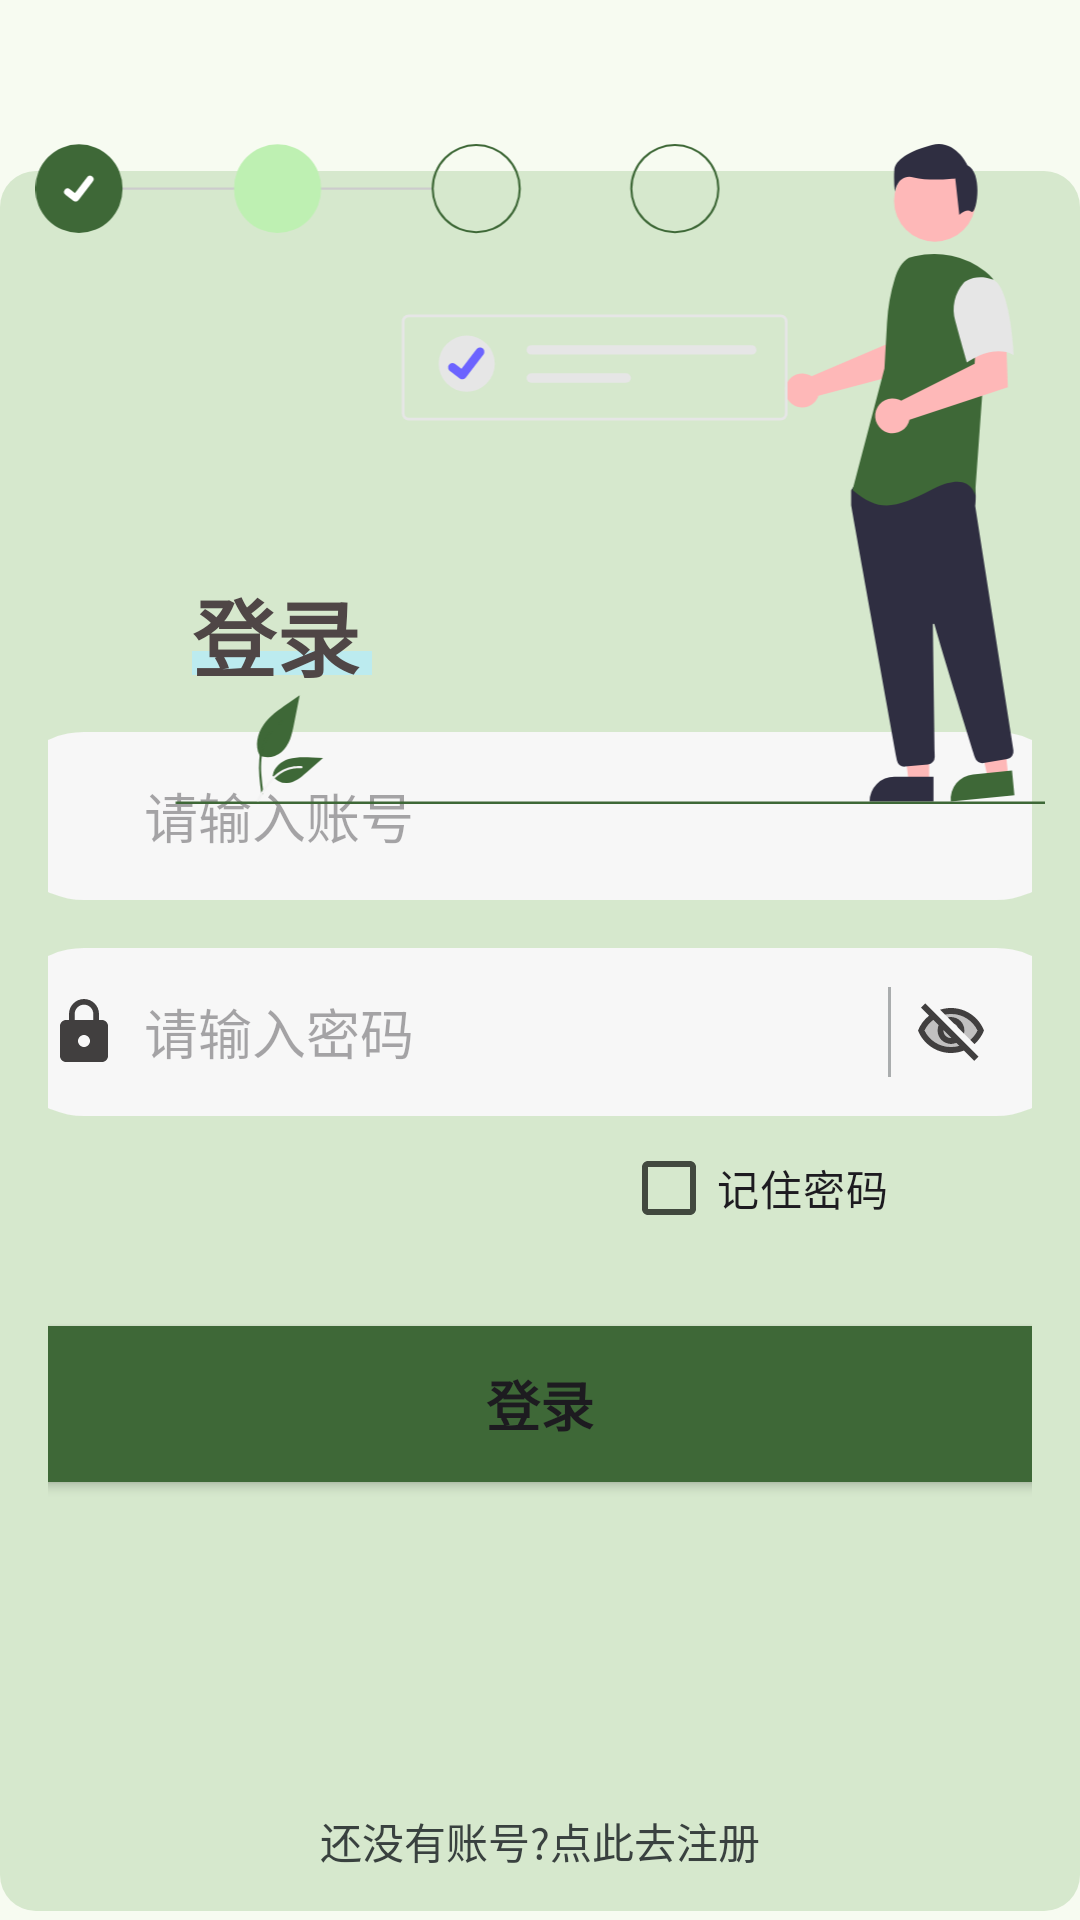

Named icons in this screenshot (1080px×1920px) and their centers, (x=x, y=y):
lock: (x=84, y=1030)
visibility off: (x=951, y=1032)
